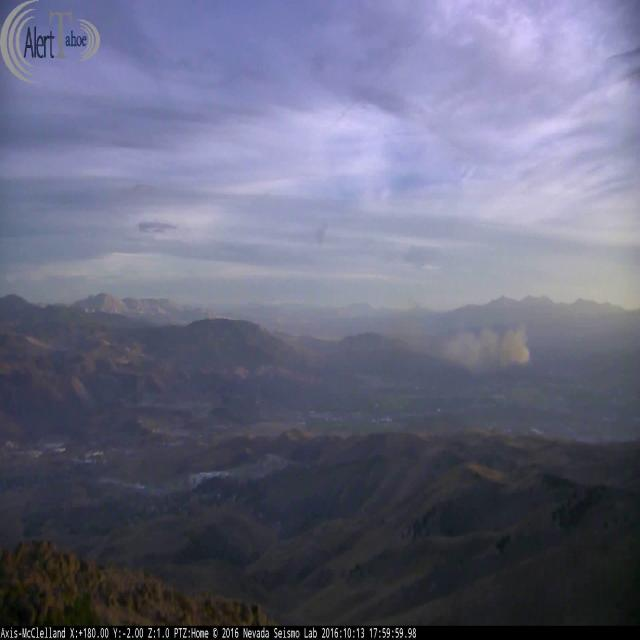smoke: (424, 322, 538, 368)
